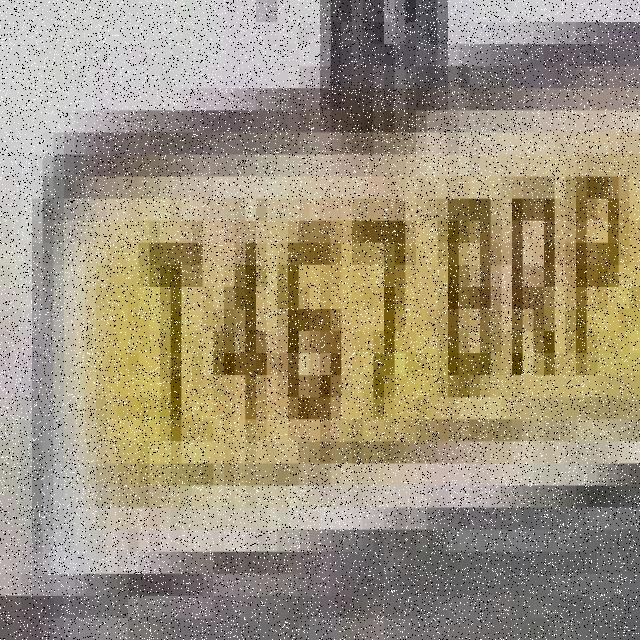licenseplate: (22, 84, 640, 609)
